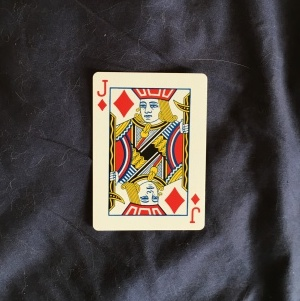card: (92, 70, 207, 231)
